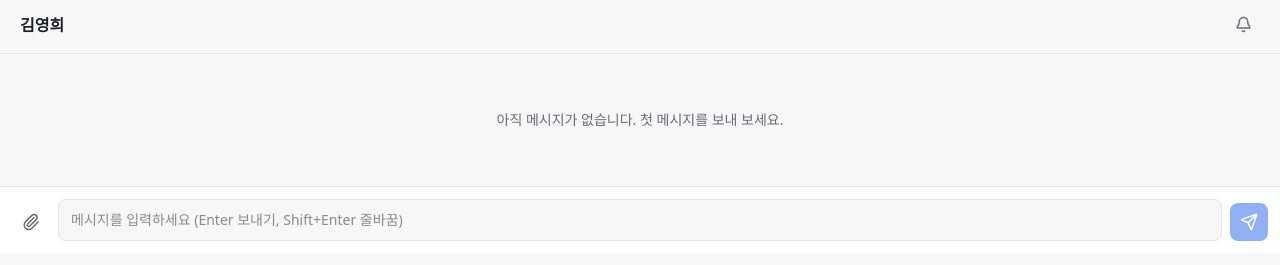
it: 보내기 › 실패하면 이유와 함께 남고, [다시 보내기]는 같은 client_msg_id 로 보낸다
The image size is (1280, 265).
Expected: the text "아직 메시지가 없습니다. 첫 메시지를 보내 보세요." is shown, [496, 110, 784, 129]
In the text box named "메시지 입력": {"x": 640, "y": 220} [58, 199, 1222, 241], type "재시도 시험"
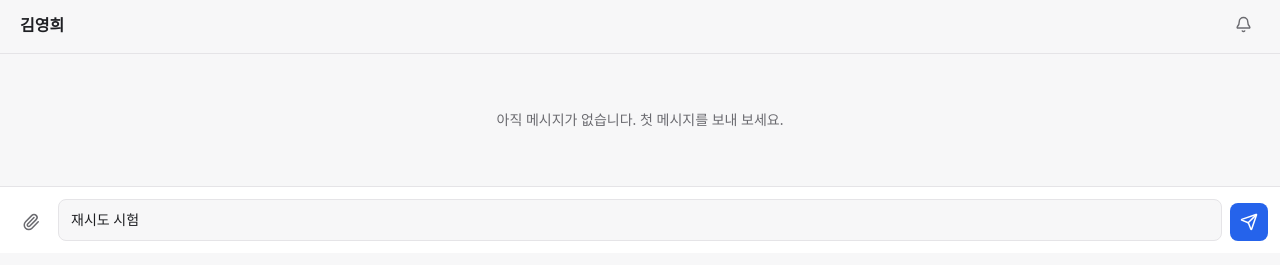
Press Enter in the text box named "메시지 입력", box [58, 199, 1222, 241]
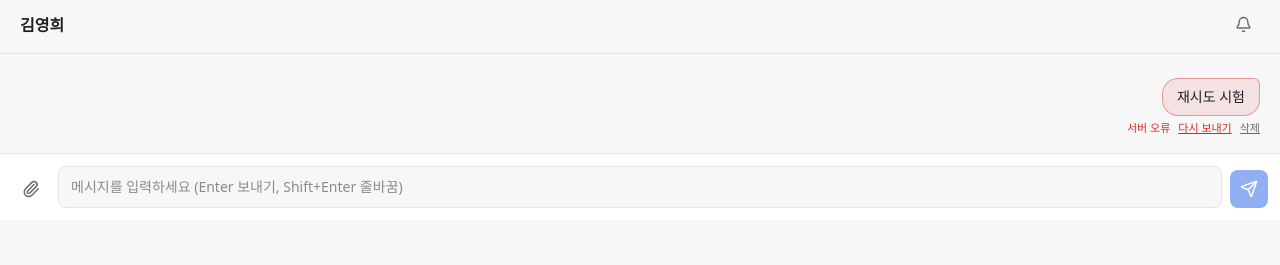
Expected: the message shows "서버 오류", [1127, 120, 1170, 135]
Click the button "다시 보내기": {"x": 1205, "y": 128} [1178, 120, 1232, 136]
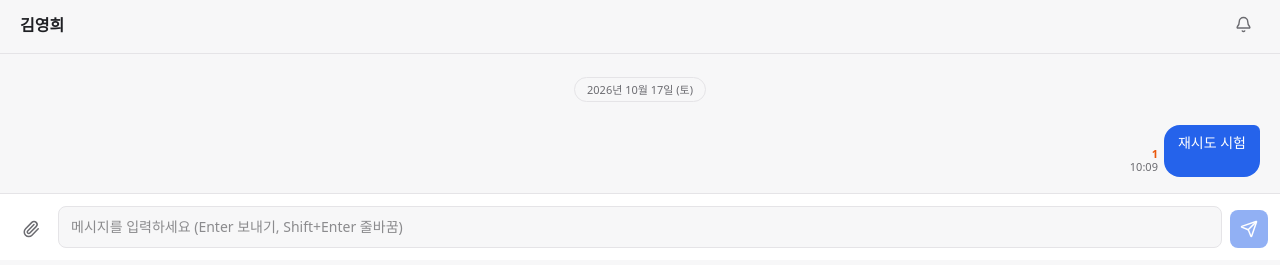
Expected: the message "서버 오류 다시 보내기 삭제" is gone
Expected: the text "재시도 시험" is shown once, [1178, 132, 1246, 152]
